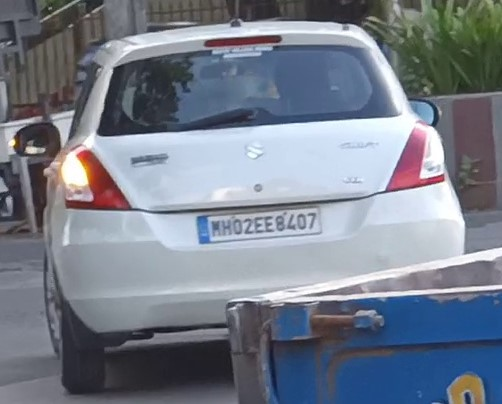MH02EE8407: (197, 206, 320, 243)
